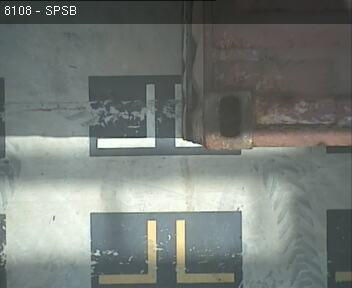groundmarker_1: (99, 220, 236, 284), (97, 83, 189, 148)
